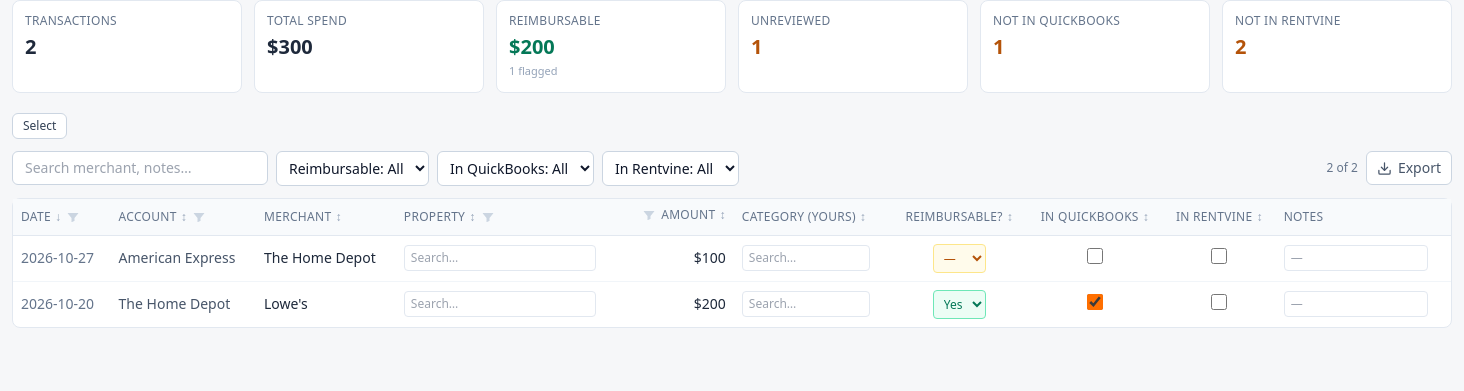
Test: TransactionsTable › category search box › shows the server's reason and reverts when a category is refused
Step 1. Type "Snacks" into the field named "category-t1" → (806, 258), box [742,245,870,271]
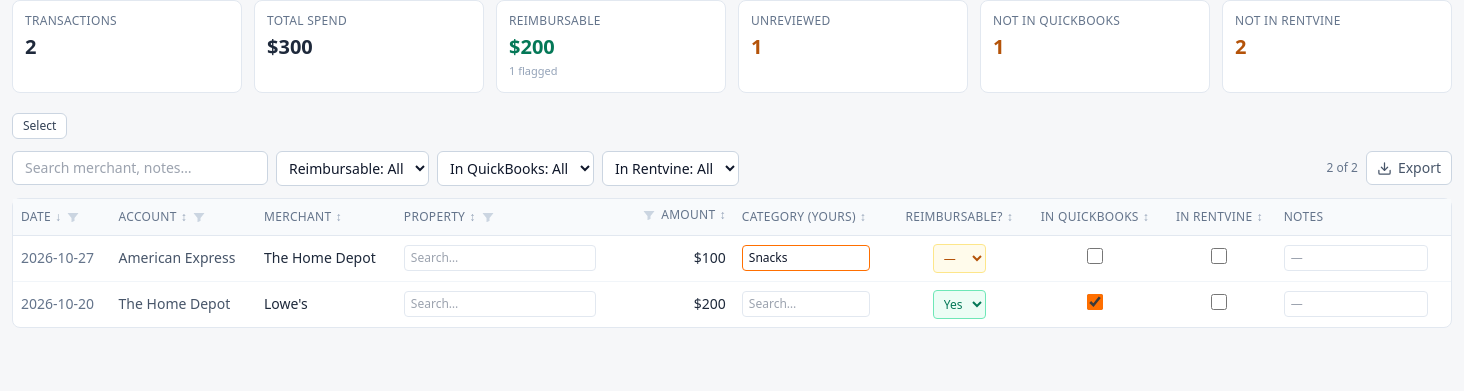
Step 2. Press Tab
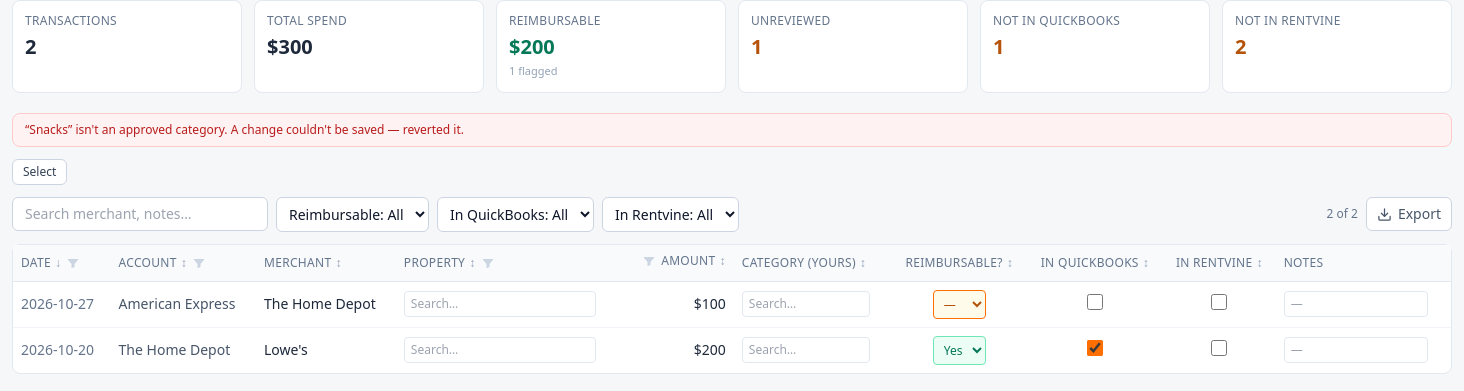
expect the field named "category-t1" is empty: met, box [742,291,870,317]
expect the text "isn't an approved category" is shown: met, box [25,120,464,138]
